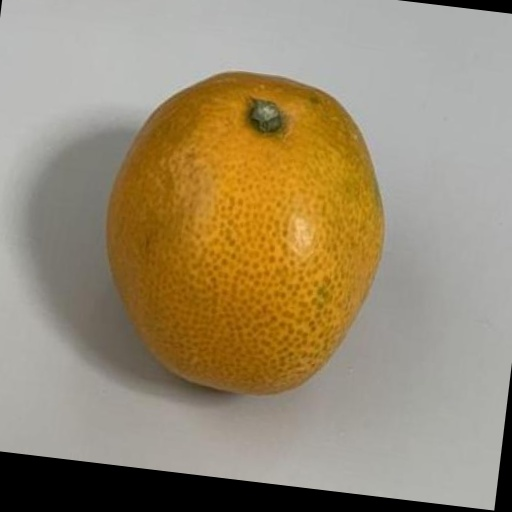fruit: (107, 73, 383, 394)
